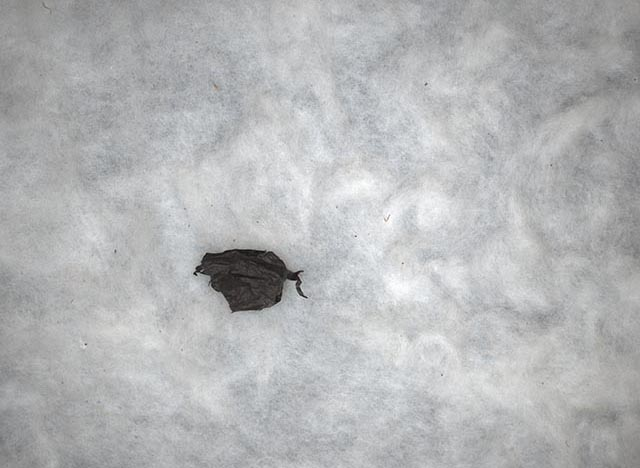plastic film: (193, 248, 309, 312)
